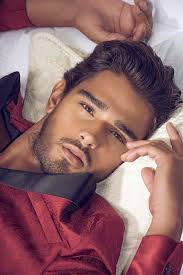middle_eastern_male: (38, 53, 152, 183)
